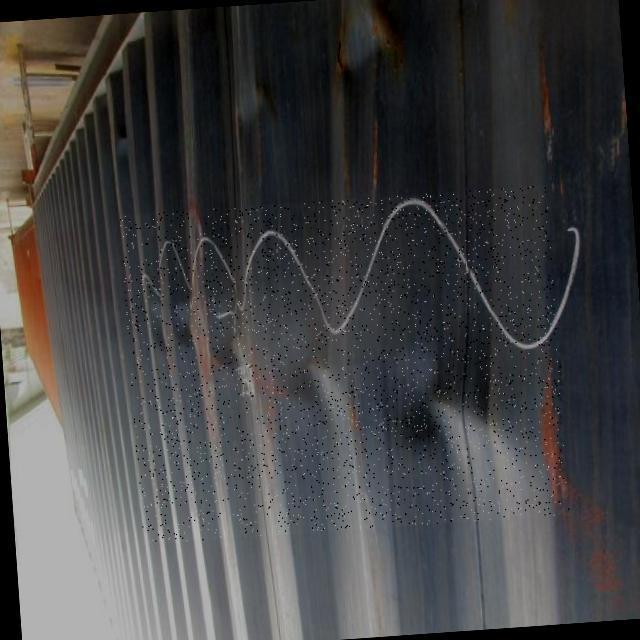dent: (120, 186, 570, 545)
